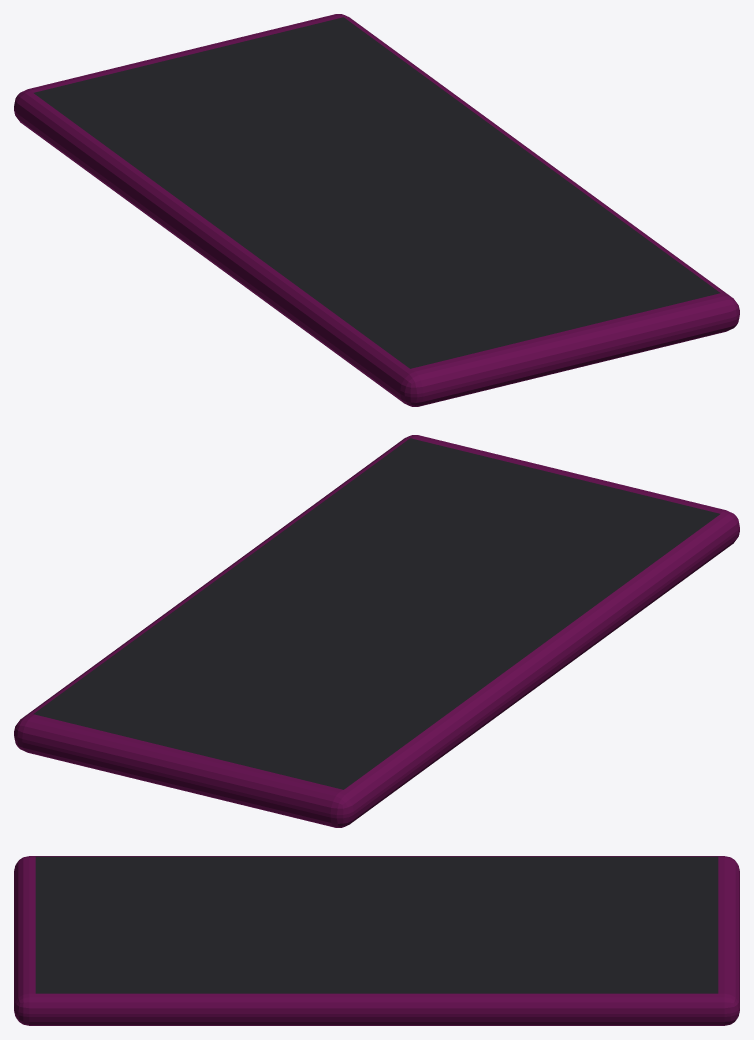
Rendered from vivo-t-model-70-budget-2026.glb.
3 renders of one model, top to bottom at view 1: azimuth 30°, elevation 25°; view 2: azimuth 150°, elevation 25°; view 3: azimuth 270°, elevation 25°, orthographic. The views are drawn at different scales.
Visible parts, largest first — view 1: Phone_Screen, Phone_Body; view 2: Phone_Screen, Phone_Body; view 3: Phone_Screen, Phone_Body.
Part boxes in pixels (x1,y1,x2,y2): Phone_Screen: (34, 17, 720, 368); Phone_Body: (14, 14, 739, 406); Phone_Screen: (33, 438, 719, 789); Phone_Body: (14, 435, 739, 827); Phone_Screen: (35, 856, 718, 993); Phone_Body: (14, 856, 739, 1025).
Size of the model in its own units: 0.079 by 0.0077 by 0.1626.
